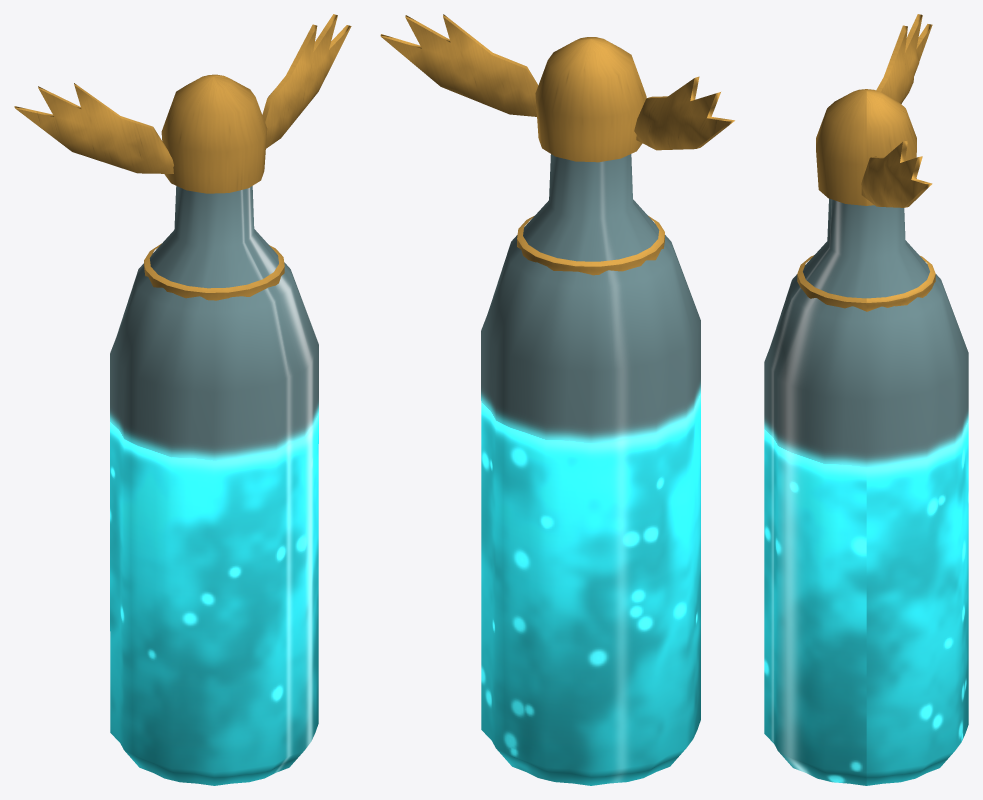
File: SwiftfootTonic.glb
3 views of the same model, side by side, from view 1: azimuth 30°, elevation 25°; view 2: azimuth 150°, elevation 25°; view 3: azimuth 270°, elevation 25° (orthographic). The views are drawn at different scales.
Visible parts, largest first — view 1: SwiftfootTonic; view 2: SwiftfootTonic; view 3: SwiftfootTonic.
Boxes of the visible parts, x1=… form: SwiftfootTonic: x1=14, y1=14, x2=351, y2=785; SwiftfootTonic: x1=380, y1=14, x2=734, y2=785; SwiftfootTonic: x1=764, y1=14, x2=968, y2=785.
Bounding box in the file's own units: 0.66 × 1.27 × 0.3546.
Materials: 1 (1 with a texture image).
